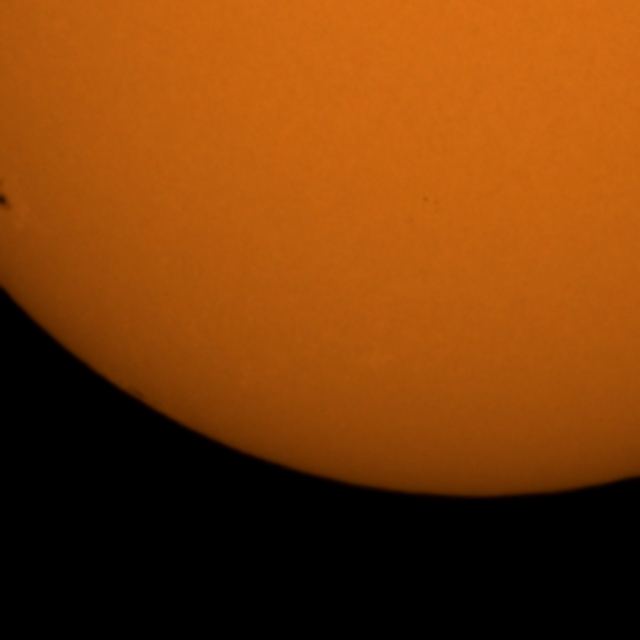sunspot: (420, 194, 442, 211), (0, 191, 13, 215)
